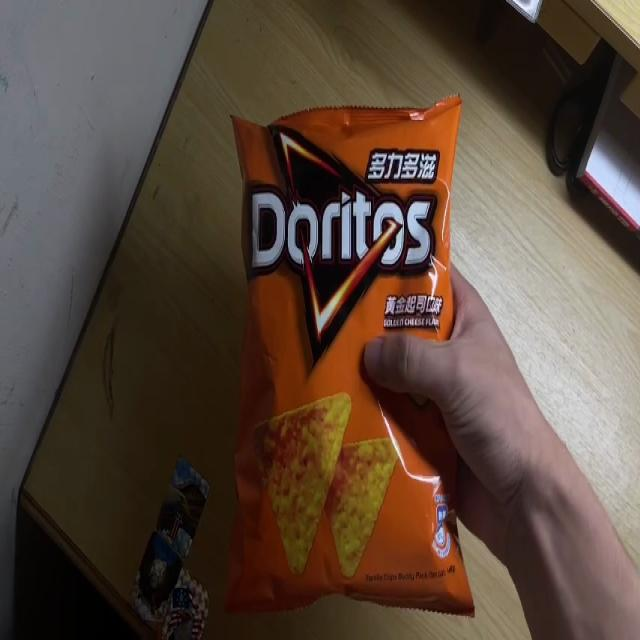Doritos: (228, 92, 479, 622)
